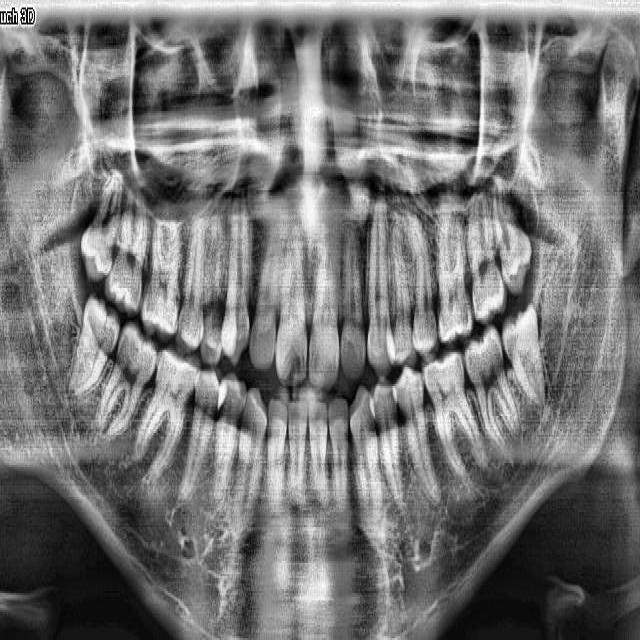karies: (217, 311, 247, 367), (279, 343, 309, 392)
